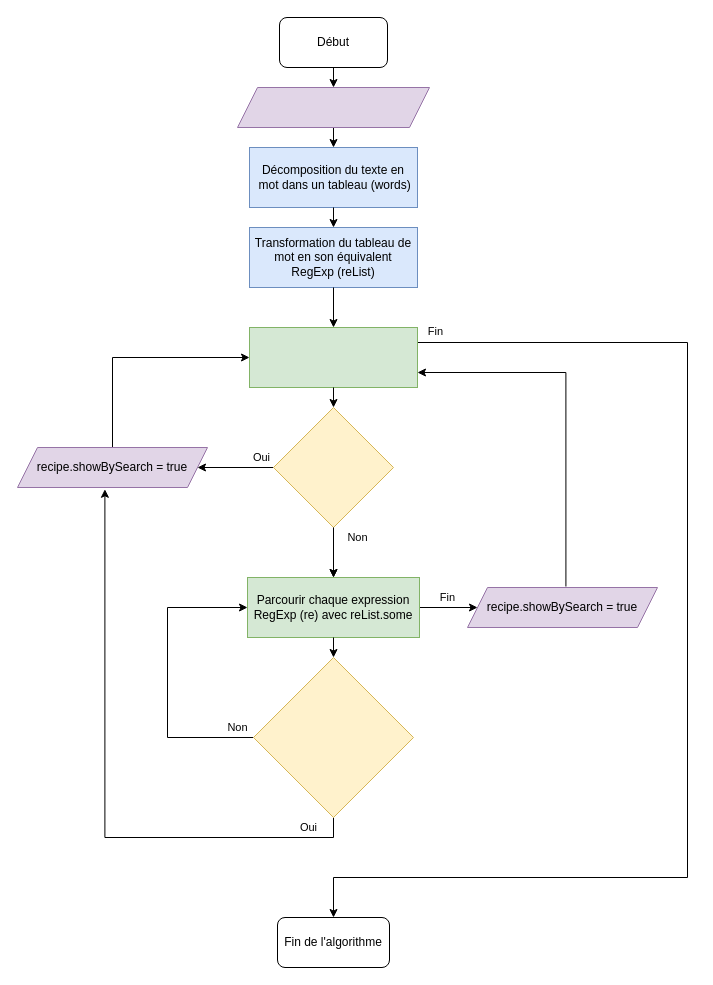
Image size: 713x985. Some labels were removed from this diagram. Each missing label, with the centre of its shape:
"Parcourir chaque Recette (recipe) avec recipes.forEach" belongs at (333,357).
"re valide pour name, description ou au moins pour l'un des ingrédients ?" belongs at (333,737).
"reList.length = 0 ?" belongs at (333,467).
"Texte saisie par l'utilisateur" belongs at (333,107).
